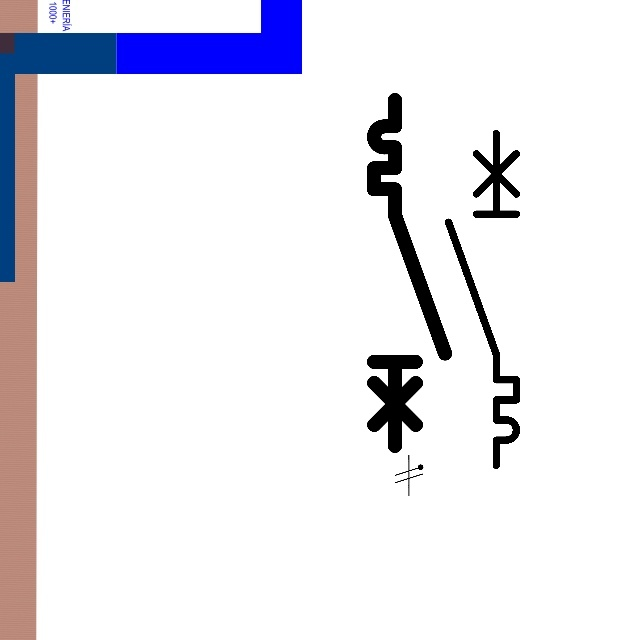interruptor_termomagnetico: (365, 91, 454, 454), (440, 125, 525, 474)
